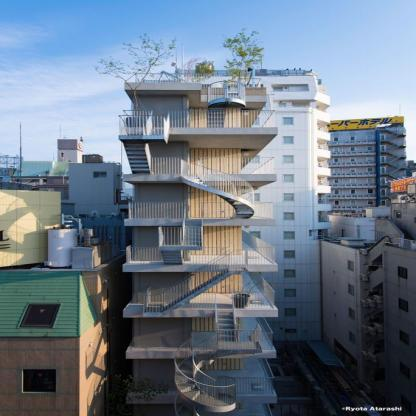Balcony: (125, 229, 276, 265), (144, 272, 277, 309), (194, 358, 275, 394), (191, 317, 274, 351), (122, 110, 277, 127), (128, 202, 274, 219), (128, 157, 274, 174), (134, 73, 263, 88)
Building Outline: (117, 72, 280, 416)
Facade: (118, 72, 281, 312)
Floor Slab: (126, 351, 277, 359), (124, 310, 278, 317), (123, 174, 277, 181), (125, 219, 277, 226), (126, 397, 277, 404), (124, 265, 278, 271), (170, 128, 277, 135), (125, 83, 201, 90)
